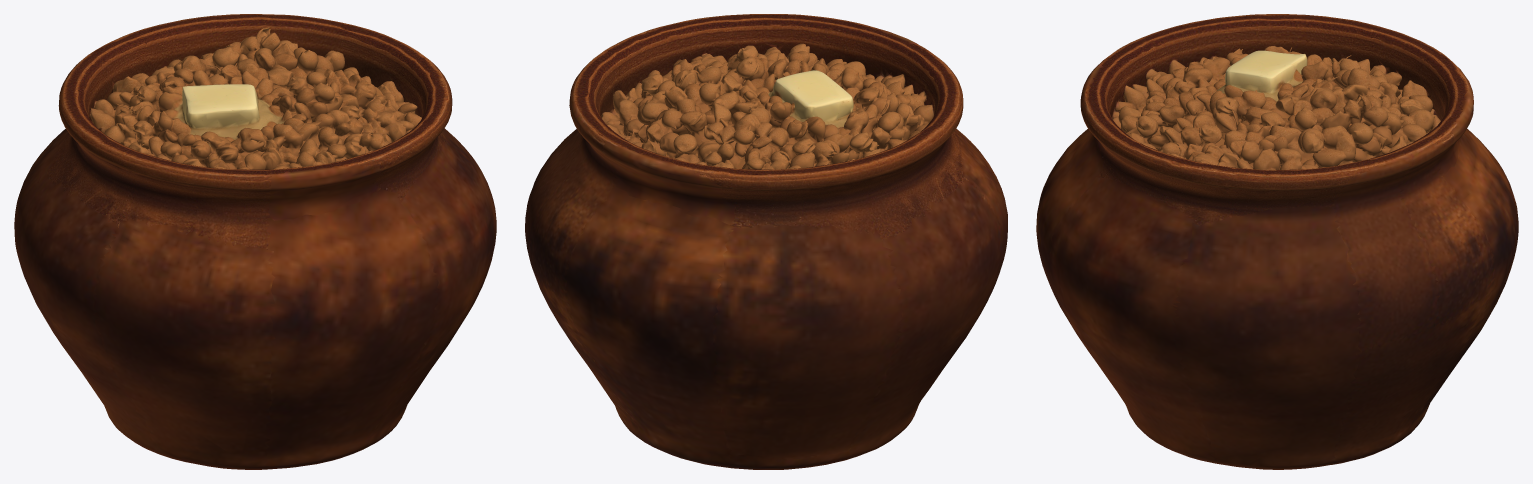
Rendered from food-pot-porridge-v1.glb.
3 views of the same model, side by side, from view 1: azimuth 30°, elevation 25°; view 2: azimuth 150°, elevation 25°; view 3: azimuth 270°, elevation 25° (orthographic).
Bounding box in the file's own units: 1.9 × 1.47 × 1.9.
Materials: 1 (1 with a texture image).
